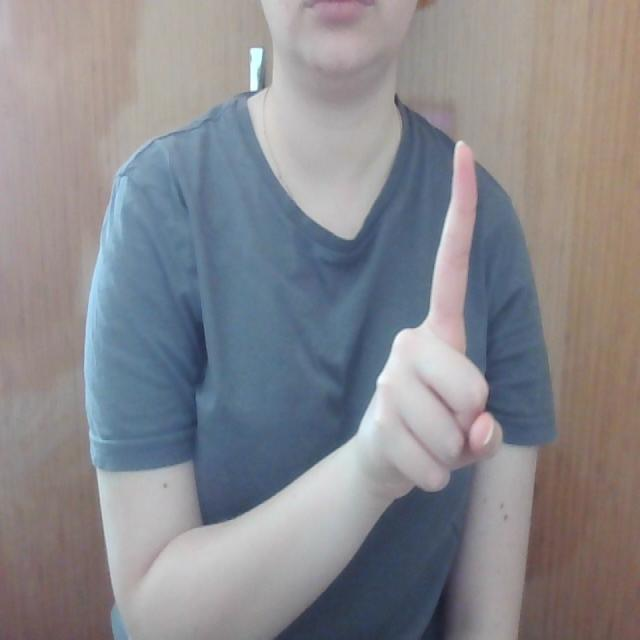Hayir: (354, 111, 510, 513)
